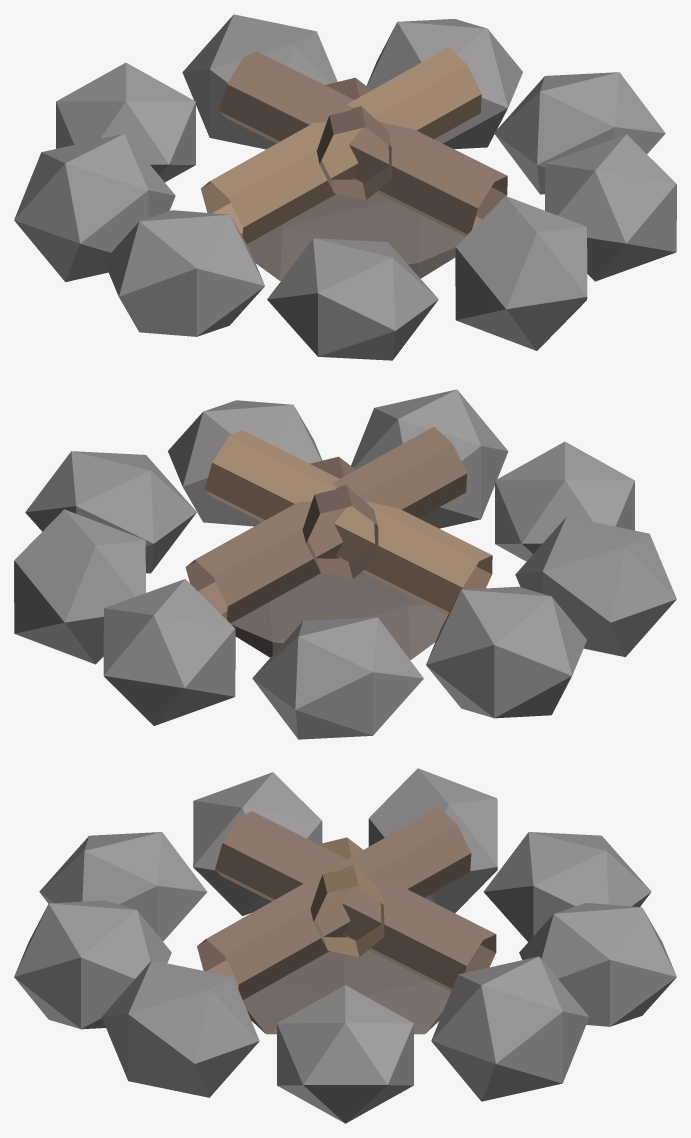
The picture shows the model from 3 angles, top to bottom: view 1: azimuth 30°, elevation 25°; view 2: azimuth 150°, elevation 25°; view 3: azimuth 270°, elevation 25°; orthographic projection. The views are drawn at different scales.
Visible parts, largest first — view 1: C11; view 2: C11; view 3: C11.
Part boxes in pixels (left/top/right/bottom): C11: left=14, top=14, right=676, bottom=360; C11: left=14, top=389, right=676, bottom=739; C11: left=14, top=768, right=676, bottom=1123.
Bounding box in the file's own units: 1.3 × 0.3672 × 1.32.
